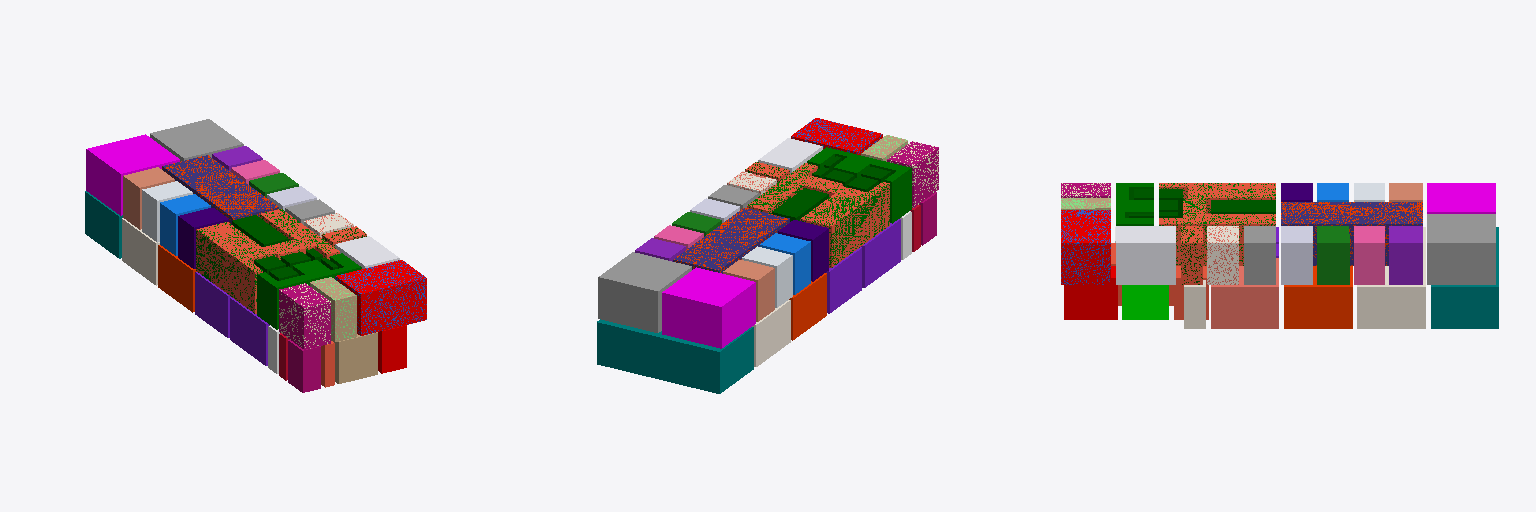
The model's file is CaddellEnergyZonesSK6.skp.dae.obj.postprocessed.obj.
3 views of the same model, side by side, from view 1: azimuth 30°, elevation 25°; view 2: azimuth 150°, elevation 25°; view 3: azimuth 270°, elevation 25° (orthographic).
Parts seen in each view (by area): view 1: Space_203__Conference_Study_ID165, Space_212__Conference_Room_ID174, Space_240.2__PhD_GRA_GTA_WorkSpace_ID312, Space_225__Open_Collaborative_Work_Area_ID364, Space_208__Future_CRC_Admin_Conference_Room_ID246, Space_205__Corridor_ID380, Space_240.1__PhD_GRA_GTA_WorkSpace_ID357, Space_110__Conference_Room_ID139, Space_210__Part-Time_Faculty_Office_ID222, Space_104__Women_s_Restroom_ID123, Space_122__Master_s_Laboratory_ID114, Space_126__FlexSpace_ID148 (+17 smaller); view 2: Space_126__FlexSpace_ID148, Space_240.2__PhD_GRA_GTA_WorkSpace_ID312, Space_203__Conference_Study_ID165, Space_240.1__PhD_GRA_GTA_WorkSpace_ID357, Space_225__Open_Collaborative_Work_Area_ID364, Space_205__Corridor_ID380, Space_212__Conference_Room_ID174, Space_208__Future_CRC_Admin_Conference_Room_ID246, Space_104__Women_s_Restroom_ID123, Space_124__FlexSpace_ID100, Space_122__Master_s_Laboratory_ID114, Space_103__Men_s_Restroom_ID57 (+14 smaller); view 3: Space_240.1__PhD_GRA_GTA_WorkSpace_ID357, Space_203__Conference_Study_ID165, Space_225__Open_Collaborative_Work_Area_ID364, Space_212__Conference_Room_ID174, Space_214__Chair_Office_ID348, Space_124__FlexSpace_ID100, Space_122__Master_s_Laboratory_ID114, Space_120__Lobby_ID23, Space_126__FlexSpace_ID148, Space_240.2__PhD_GRA_GTA_WorkSpace_ID312, Space_228__Faculty_Office_ID296, Space_112__Recruitment_Manager_ID130 (+17 smaller).
Part boxes in pixels (x1,y1,x2,y2): Space_203__Conference_Study_ID165: (196,209,339,313); Space_212__Conference_Room_ID174: (335,260,426,335); Space_240.2__PhD_GRA_GTA_WorkSpace_ID312: (86,134,179,215); Space_225__Open_Collaborative_Work_Area_ID364: (162,155,278,224); Space_208__Future_CRC_Admin_Conference_Room_ID246: (279,283,330,349); Space_205__Corridor_ID380: (257,253,361,329); Space_240.1__PhD_GRA_GTA_WorkSpace_ID357: (150,119,243,161); Space_110__Conference_Room_ID139: (331,332,377,383); Space_210__Part-Time_Faculty_Office_ID222: (310,277,356,341); Space_104__Women_s_Restroom_ID123: (230,297,269,365); Space_122__Master_s_Laboratory_ID114: (158,245,196,312); Space_126__FlexSpace_ID148: (85,191,122,258); Space_126__FlexSpace_ID148: (597,319,753,393); Space_240.2__PhD_GRA_GTA_WorkSpace_ID312: (662,267,755,348); Space_203__Conference_Study_ID165: (747,163,889,267); Space_240.1__PhD_GRA_GTA_WorkSpace_ID357: (598,252,691,332); Space_225__Open_Collaborative_Work_Area_ID364: (673,208,789,273); Space_205__Corridor_ID380: (807,147,911,223); Space_212__Conference_Room_ID174: (791,118,882,154); Space_208__Future_CRC_Admin_Conference_Room_ID246: (887,141,938,207); Space_104__Women_s_Restroom_ID123: (861,219,900,287); Space_124__FlexSpace_ID100: (752,300,790,366); Space_122__Master_s_Laboratory_ID114: (789,273,826,340); Space_103__Men_s_Restroom_ID57: (826,247,861,313); Space_240.1__PhD_GRA_GTA_WorkSpace_ID357: (1427,214,1495,284); Space_203__Conference_Study_ID165: (1159,183,1275,265); Space_225__Open_Collaborative_Work_Area_ID364: (1281,202,1422,265); Space_212__Conference_Room_ID174: (1061,210,1110,284); Space_214__Chair_Office_ID348: (1116,226,1175,284); Space_124__FlexSpace_ID100: (1357,227,1425,328); Space_122__Master_s_Laboratory_ID114: (1284,266,1352,328); Space_120__Lobby_ID23: (1211,258,1278,328); Space_126__FlexSpace_ID148: (1431,227,1498,328); Space_240.2__PhD_GRA_GTA_WorkSpace_ID312: (1427,183,1495,213); Space_228__Faculty_Office_ID296: (1389,226,1422,284); Space_112__Recruitment_Manager_ID130: (1064,266,1117,319).
Bounding box in the file's own units: 12.43 × 8.3 × 38.29.